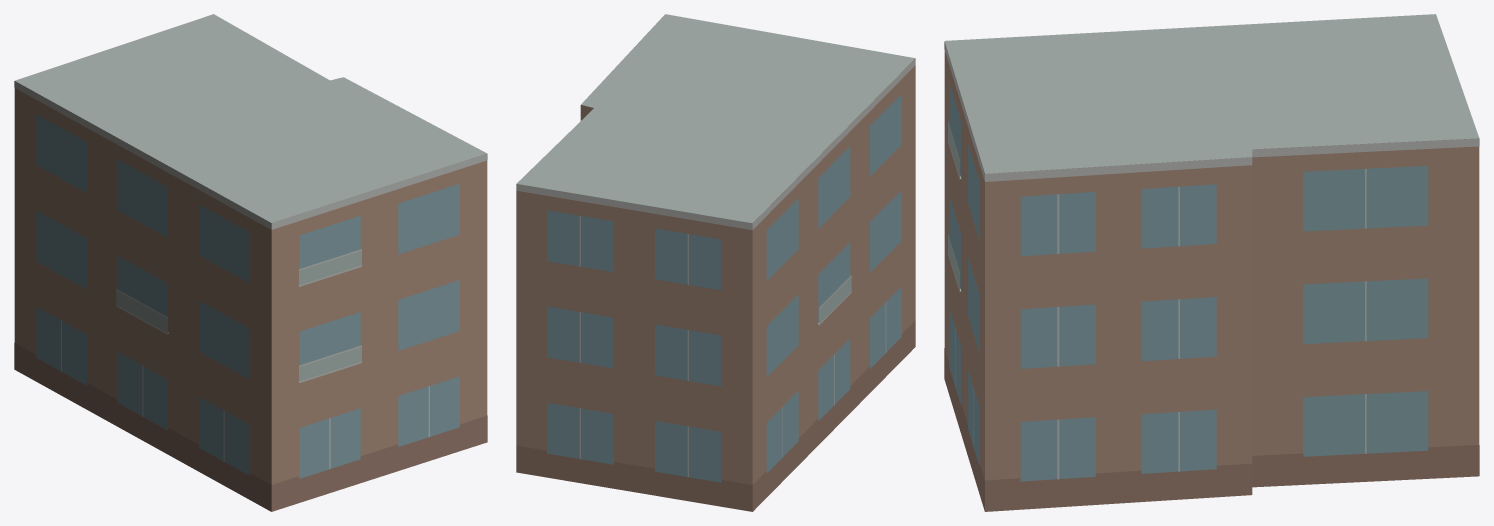
File: survey-upis-32738356.glb
3 renders of one model, left to right at view 1: azimuth 30°, elevation 25°; view 2: azimuth 150°, elevation 25°; view 3: azimuth 270°, elevation 25°, orthographic. The views are drawn at different scales.
Parts seen in each view (by area): view 1: survey-upis-32738356.tmp; view 2: survey-upis-32738356.tmp; view 3: survey-upis-32738356.tmp.
Part boxes in pixels (x1,y1,x2,y2): survey-upis-32738356.tmp: (14,14,487,511); survey-upis-32738356.tmp: (516,14,915,511); survey-upis-32738356.tmp: (944,14,1479,511).
Bounding box in the file's own units: 10.36 × 10.2 × 14.65.
